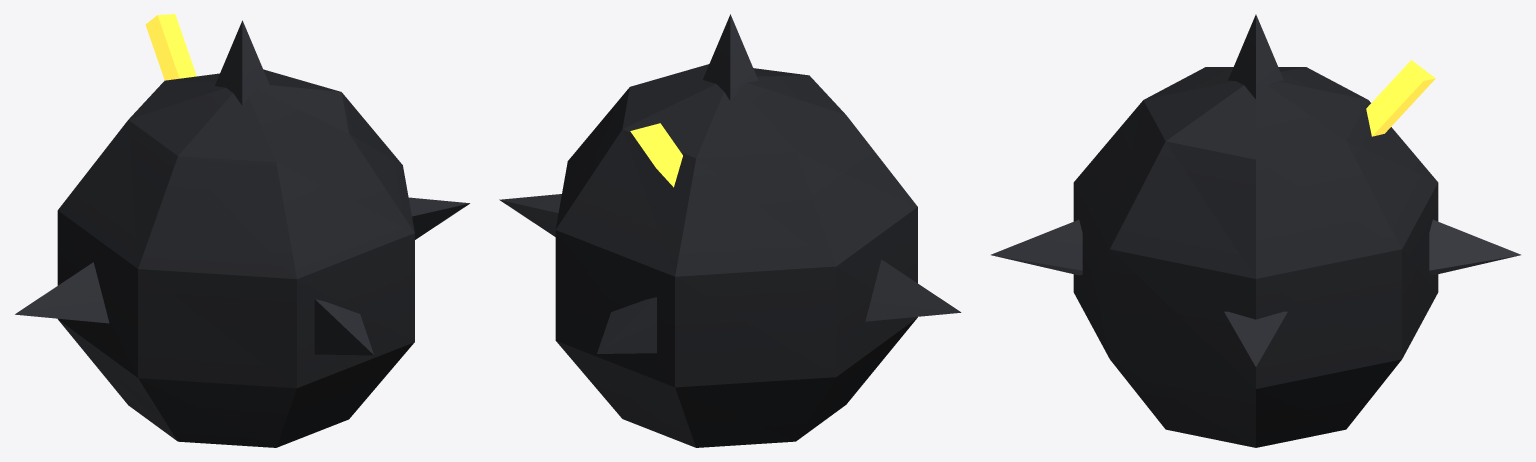
The model's file is mortar_shell.glb.
The picture shows the model from 3 angles, left to right: view 1: azimuth 30°, elevation 25°; view 2: azimuth 150°, elevation 25°; view 3: azimuth 270°, elevation 25°; orthographic projection.
Parts seen in each view (by area): view 1: mortar_shell; view 2: mortar_shell; view 3: mortar_shell.
Part boxes in pixels (x1=…): mortar_shell: x1=15, y1=14, x2=469, y2=447; mortar_shell: x1=499, y1=14, x2=961, y2=447; mortar_shell: x1=991, y1=14, x2=1520, y2=447.
Bounding box in the file's own units: 0.23 × 0.2 × 0.23.
